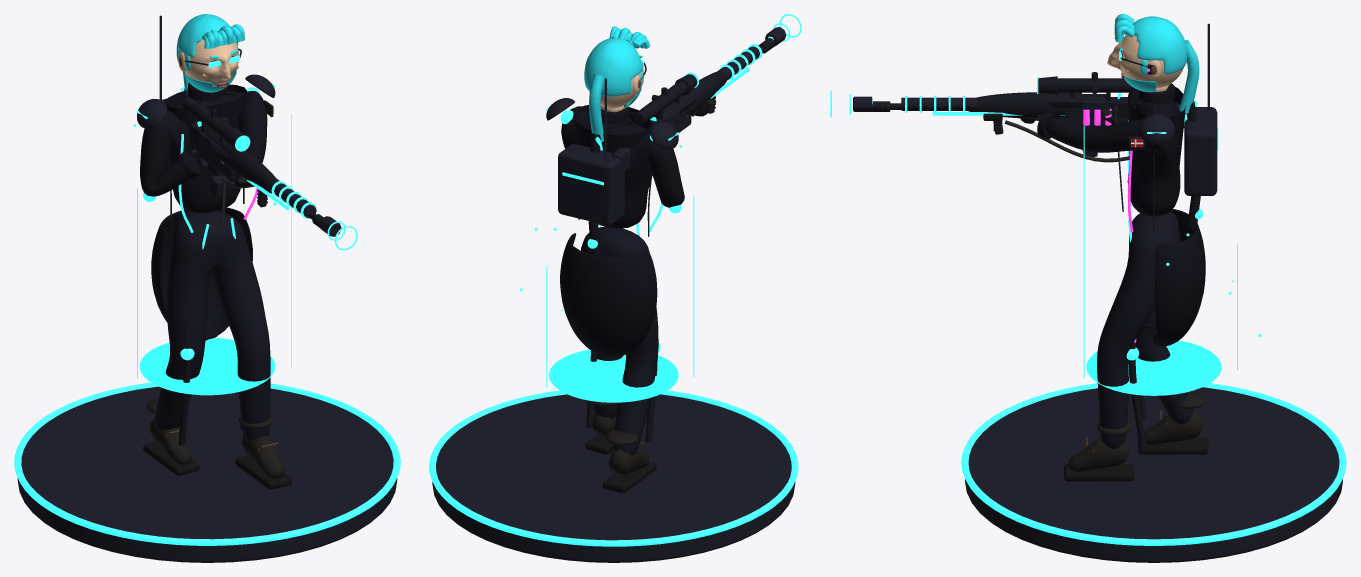
Rendered from skytte_neon.glb.
3 renders of one model, left to right at view 1: azimuth 30°, elevation 25°; view 2: azimuth 150°, elevation 25°; view 3: azimuth 270°, elevation 25°, orthographic. The views are drawn at different scales.
Parts seen in each view (by area): view 1: fod_net, menneske_net, op4.002_net, hoved_net, vaaben_net, op3.001_net, op3_net, op4_net, op4.001_net; view 2: fod_net, menneske_net, op3.001_net, op4.002_net, hoved_net, vaaben_net, op4_net, op3_net, op4.001_net; view 3: fod_net, menneske_net, hoved_net, vaaben_net, op4.002_net, op3.001_net, op3_net, op4_net, op4.001_net, op2_net.
Boxes of the visible parts, x1,y1,x2,y2 form: fod_net: (14, 382, 400, 562); menneske_net: (140, 82, 291, 489); op4.002_net: (133, 114, 291, 395); hoved_net: (176, 14, 245, 95); vaaben_net: (181, 97, 323, 228); op3.001_net: (136, 15, 275, 168); op3_net: (197, 121, 341, 236); op4_net: (143, 87, 260, 445); op4.001_net: (180, 87, 357, 250); fod_net: (429, 390, 798, 562); menneske_net: (560, 98, 716, 493); op3.001_net: (546, 78, 678, 225); op4.002_net: (519, 145, 694, 402); hoved_net: (584, 26, 650, 142); vaaben_net: (612, 38, 775, 171); op4_net: (560, 110, 681, 442); op3_net: (650, 27, 786, 126); op4.001_net: (595, 14, 801, 150); fod_net: (961, 383, 1346, 562); menneske_net: (1020, 83, 1208, 481); hoved_net: (1107, 14, 1199, 113); vaaben_net: (871, 72, 1196, 127); op4.002_net: (1083, 125, 1261, 395); op3.001_net: (1138, 23, 1218, 195); op3_net: (853, 92, 1121, 116); op4_net: (1126, 101, 1203, 449); op4.001_net: (830, 91, 1197, 125); op2_net: (983, 108, 1111, 156).
Bounding box in the file's own units: 1.94 × 2.58 × 2.59.
